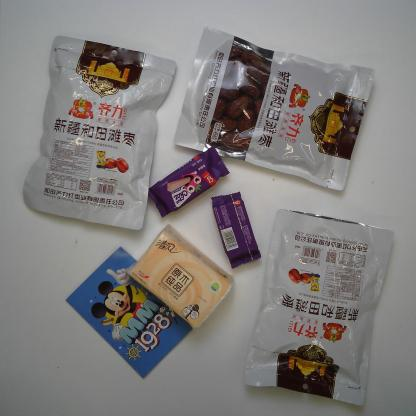Dessert: (145, 142, 230, 218), (210, 191, 263, 270)
Dried Food: (169, 24, 376, 195), (20, 32, 182, 234), (239, 207, 397, 411)
Stationery: (64, 246, 194, 381)
Tissue: (125, 222, 236, 332)
